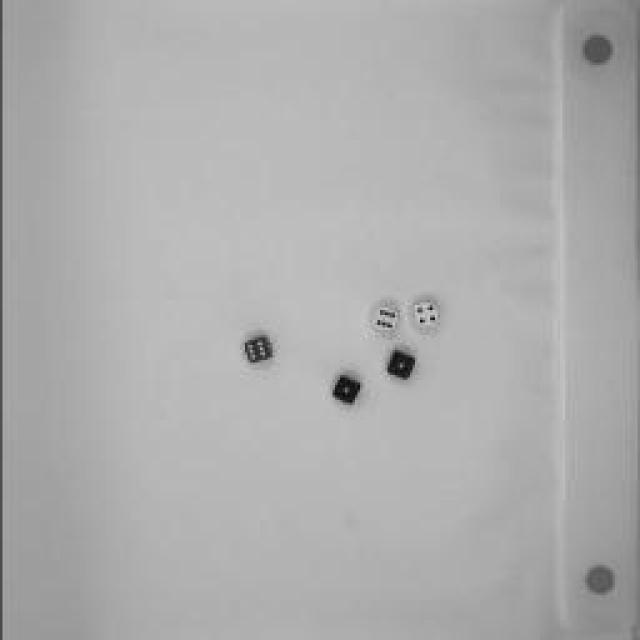dice_1: (381, 344, 419, 381), (328, 372, 364, 408)
dice_4: (410, 294, 442, 331)
dice_6: (243, 334, 275, 366), (369, 303, 401, 335)
